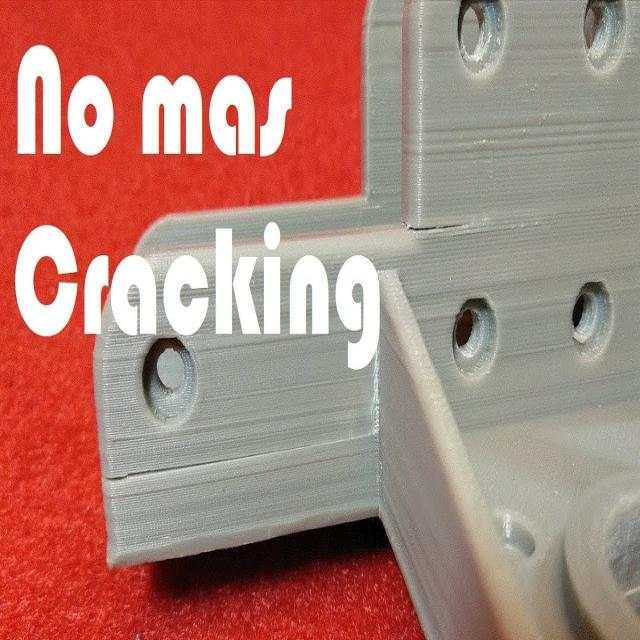cracks: (97, 450, 326, 510), (384, 196, 490, 254)
